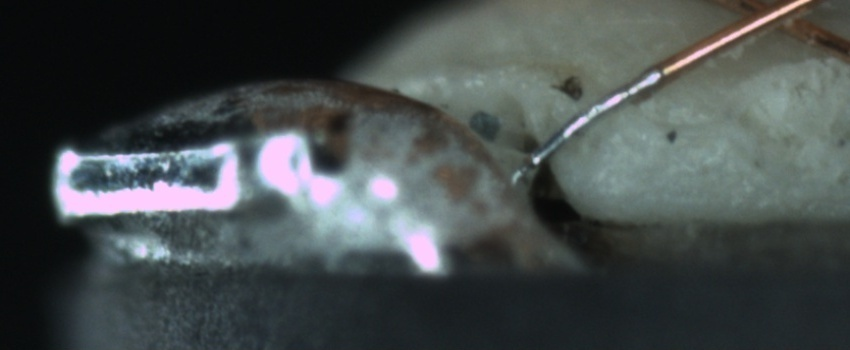CL: (714, 2, 829, 43)
DL: (633, 97, 722, 151)
TS: (534, 66, 661, 166)
